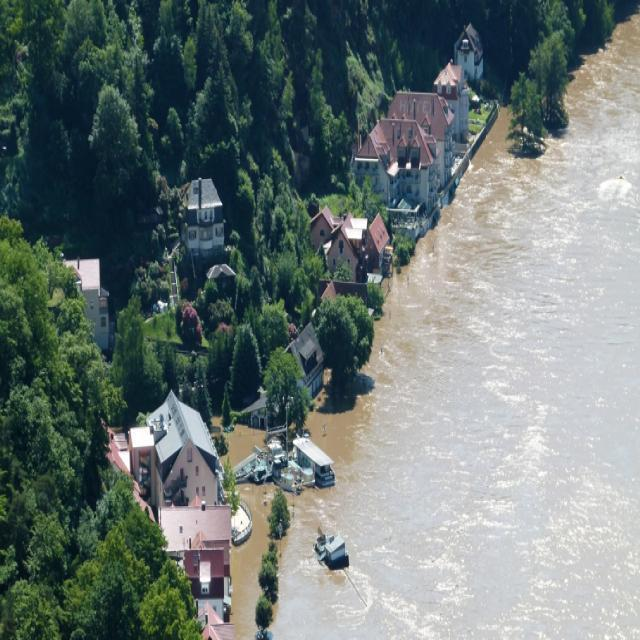flood: (279, 14, 640, 640), (273, 481, 343, 640), (231, 484, 277, 640), (311, 396, 375, 482), (465, 108, 510, 180), (229, 426, 264, 466)
house: (141, 392, 223, 501), (154, 504, 232, 590), (362, 118, 434, 168), (74, 256, 110, 352), (184, 179, 227, 256), (284, 322, 325, 397), (387, 89, 454, 132), (326, 211, 359, 272), (454, 22, 486, 79), (314, 530, 347, 574), (362, 212, 392, 256), (311, 204, 334, 243), (433, 60, 462, 90)
